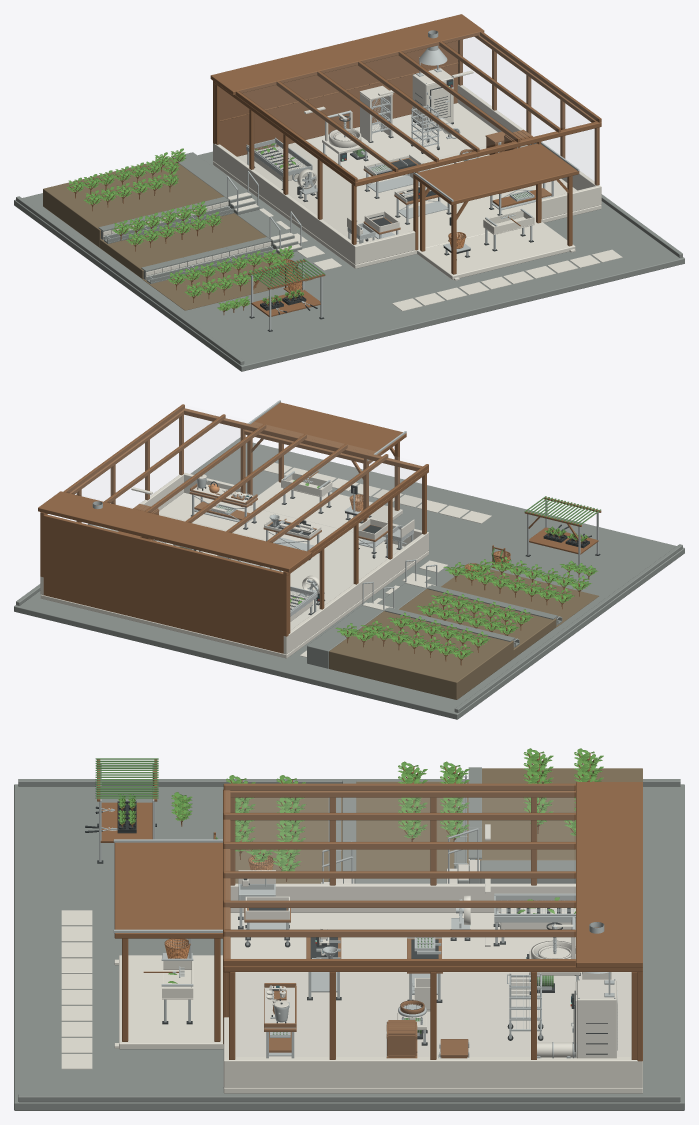
File: tea-garden-and-processing-house-tea-gard-2f20fd15-starter-scene__30800.glb
3 views of the same model, one above another, from view 1: azimuth 30°, elevation 25°; view 2: azimuth 150°, elevation 25°; view 3: azimuth 270°, elevation 25° (orthographic). The views are drawn at different scales.
Parts seen in each view (by area): view 1: 001-tea-garden-and-processing-house-roofed-processing-house/ (×3), 000-tea-garden-and-processing-house-tea-terrace-ground/0, 000-tea-garden-and-processing-house-tea-terrace-ground/1, 002-tea-garden-and-processing-house-covered-leaf-receiving-b (×2), 000-tea-garden-and-processing-house-tea-terrace-ground/2, 053-tea-garden-and-processing-house-drying-cabinet/1, 048-tea-garden-and-processing-house-withering-bed/0, 031-tea-garden-and-processing-house-nursery-shade-frame/2, 057-tea-garden-and-processing-house-oxidation-rack/2, 031-tea-garden-and-processing-house-nursery-shade-frame/3, 056-tea-garden-and-processing-house-dryer-loading-trolley/1, 044-tea-garden-and-processing-house-receiving-leaf-trough/2 (+4 smaller); view 2: 001-tea-garden-and-processing-house-roofed-processing-house/ (×3), 000-tea-garden-and-processing-house-tea-terrace-ground/0, 000-tea-garden-and-processing-house-tea-terrace-ground/1, 002-tea-garden-and-processing-house-covered-leaf-receiving-b (×2), 000-tea-garden-and-processing-house-tea-terrace-ground/2, 031-tea-garden-and-processing-house-nursery-shade-frame/2, 031-tea-garden-and-processing-house-nursery-shade-frame/3, 044-tea-garden-and-processing-house-receiving-leaf-trough/2, 075-tea-garden-and-processing-house-tasting-bench/2, 005-tea-garden-and-processing-house-tea-hedge-straight/1, 008-tea-garden-and-processing-house-tea-hedge-straight/1, 004-tea-garden-and-processing-house-tea-hedge-straight/1 (+10 smaller); view 3: 001-tea-garden-and-processing-house-roofed-processing-house/ (×3), 000-tea-garden-and-processing-house-tea-terrace-ground/0, 002-tea-garden-and-processing-house-covered-leaf-receiving-b (×3), 000-tea-garden-and-processing-house-tea-terrace-ground/1, 000-tea-garden-and-processing-house-tea-terrace-ground/2, 053-tea-garden-and-processing-house-drying-cabinet/1, 031-tea-garden-and-processing-house-nursery-shade-frame/3, 048-tea-garden-and-processing-house-withering-bed/0, 031-tea-garden-and-processing-house-nursery-shade-frame/2, 056-tea-garden-and-processing-house-dryer-loading-trolley/1, 069-tea-garden-and-processing-house-shipping-tea-crate/0, 044-tea-garden-and-processing-house-receiving-leaf-trough/2 (+15 smaller).
Part boxes in pixels (x1,y1,x2,y2): 001-tea-garden-and-processing-house-roofed-processing-house/ (×3): [210, 14, 601, 268]; 000-tea-garden-and-processing-house-tea-terrace-ground/0: [14, 151, 684, 371]; 000-tea-garden-and-processing-house-tea-terrace-ground/1: [43, 158, 313, 310]; 002-tea-garden-and-processing-house-covered-leaf-receiving-b (×2): [413, 143, 579, 280]; 000-tea-garden-and-processing-house-tea-terrace-ground/2: [255, 203, 622, 311]; 053-tea-garden-and-processing-house-drying-cabinet/1: [412, 68, 453, 127]; 048-tea-garden-and-processing-house-withering-bed/0: [246, 137, 312, 190]; 031-tea-garden-and-processing-house-nursery-shade-frame/2: [248, 260, 325, 316]; 057-tea-garden-and-processing-house-oxidation-rack/2: [359, 85, 393, 141]; 031-tea-garden-and-processing-house-nursery-shade-frame/3: [248, 258, 325, 287]; 056-tea-garden-and-processing-house-dryer-loading-trolley/1: [411, 104, 439, 152]; 044-tea-garden-and-processing-house-receiving-leaf-trough/2: [483, 210, 534, 234]; 001-tea-garden-and-processing-house-roofed-processing-house/ (×3): [38, 404, 428, 658]; 000-tea-garden-and-processing-house-tea-terrace-ground/0: [14, 437, 684, 719]; 000-tea-garden-and-processing-house-tea-terrace-ground/1: [329, 566, 598, 699]; 002-tea-garden-and-processing-house-covered-leaf-receiving-b (×2): [244, 402, 406, 532]; 000-tea-garden-and-processing-house-tea-terrace-ground/2: [263, 462, 491, 657]; 031-tea-garden-and-processing-house-nursery-shade-frame/2: [524, 497, 601, 554]; 031-tea-garden-and-processing-house-nursery-shade-frame/3: [524, 496, 600, 525]; 044-tea-garden-and-processing-house-receiving-leaf-trough/2: [281, 472, 332, 497]; 075-tea-garden-and-processing-house-tasting-bench/2: [189, 483, 257, 520]; 005-tea-garden-and-processing-house-tea-hedge-straight/1: [536, 568, 591, 590]; 008-tea-garden-and-processing-house-tea-hedge-straight/1: [431, 590, 486, 612]; 004-tea-garden-and-processing-house-tea-hedge-straight/1: [472, 569, 527, 591]; 001-tea-garden-and-processing-house-roofed-processing-house/ (×3): [223, 782, 642, 1093]; 000-tea-garden-and-processing-house-tea-terrace-ground/0: [14, 779, 684, 1110]; 002-tea-garden-and-processing-house-covered-leaf-receiving-b (×3): [113, 839, 223, 1049]; 000-tea-garden-and-processing-house-tea-terrace-ground/1: [235, 768, 642, 883]; 000-tea-garden-and-processing-house-tea-terrace-ground/2: [61, 910, 92, 1069]; 053-tea-garden-and-processing-house-drying-cabinet/1: [574, 979, 616, 1058]; 031-tea-garden-and-processing-house-nursery-shade-frame/3: [95, 758, 158, 798]; 048-tea-garden-and-processing-house-withering-bed/0: [494, 893, 575, 944]; 031-tea-garden-and-processing-house-nursery-shade-frame/2: [97, 759, 157, 842]; 056-tea-garden-and-processing-house-dryer-loading-trolley/1: [507, 973, 542, 1039]; 069-tea-garden-and-processing-house-shipping-tea-crate/0: [386, 1020, 417, 1056]; 044-tea-garden-and-processing-house-receiving-leaf-trough/2: [162, 961, 193, 999].
Bounding box in the file's own units: 18 × 3.87 × 16.
